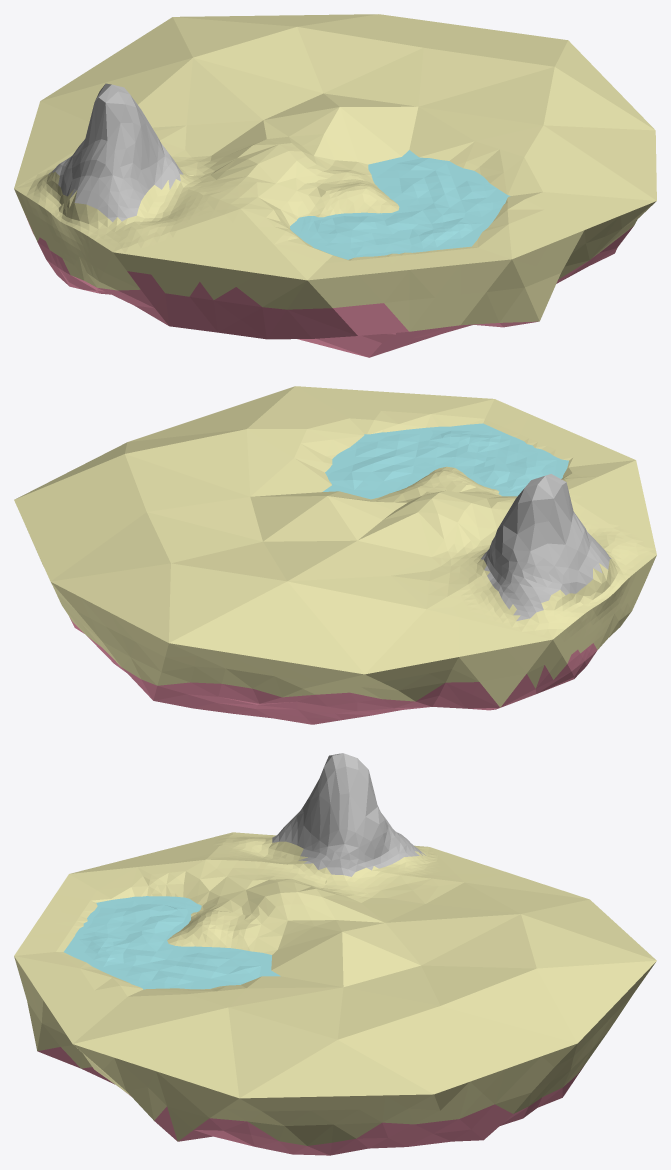
Rendered from playgroud1.fbx.
The picture shows the model from 3 angles, top to bottom: view 1: azimuth 30°, elevation 25°; view 2: azimuth 150°, elevation 25°; view 3: azimuth 270°, elevation 25°; orthographic projection. The views are drawn at different scales.
Visible parts, largest first — view 1: 棱角球, 平面; view 2: 棱角球, 平面; view 3: 棱角球, 平面.
Part boxes in pixels (left/top/right/bottom): 棱角球: left=14, top=14, right=656, bottom=357; 平面: left=290, top=150, right=510, bottom=259; 棱角球: left=14, top=386, right=656, bottom=724; 平面: left=323, top=423, right=568, bottom=499; 棱角球: left=14, top=753, right=656, bottom=1155; 平面: left=64, top=896, right=280, bottom=989.
Size of the model in its own units: 3758 by 1953 by 3915.
